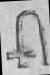Q7: (3, 0, 48, 74)
